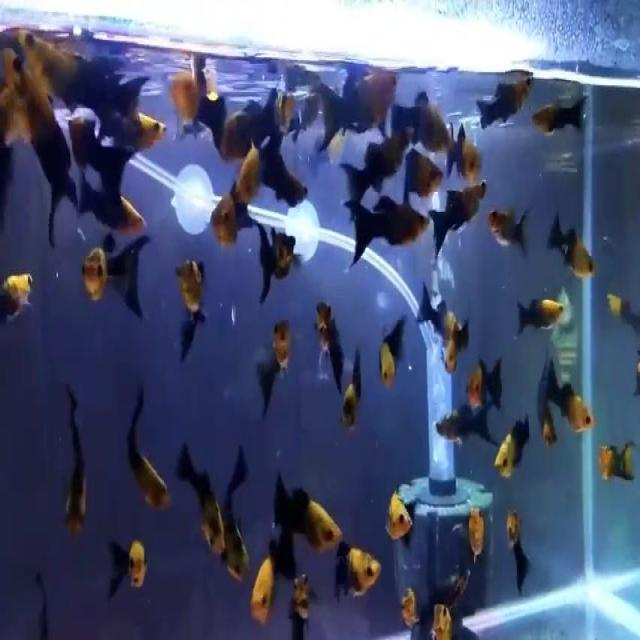PlatyFish: (265, 452, 352, 561), (336, 188, 436, 277), (544, 192, 601, 293), (506, 286, 577, 347)
